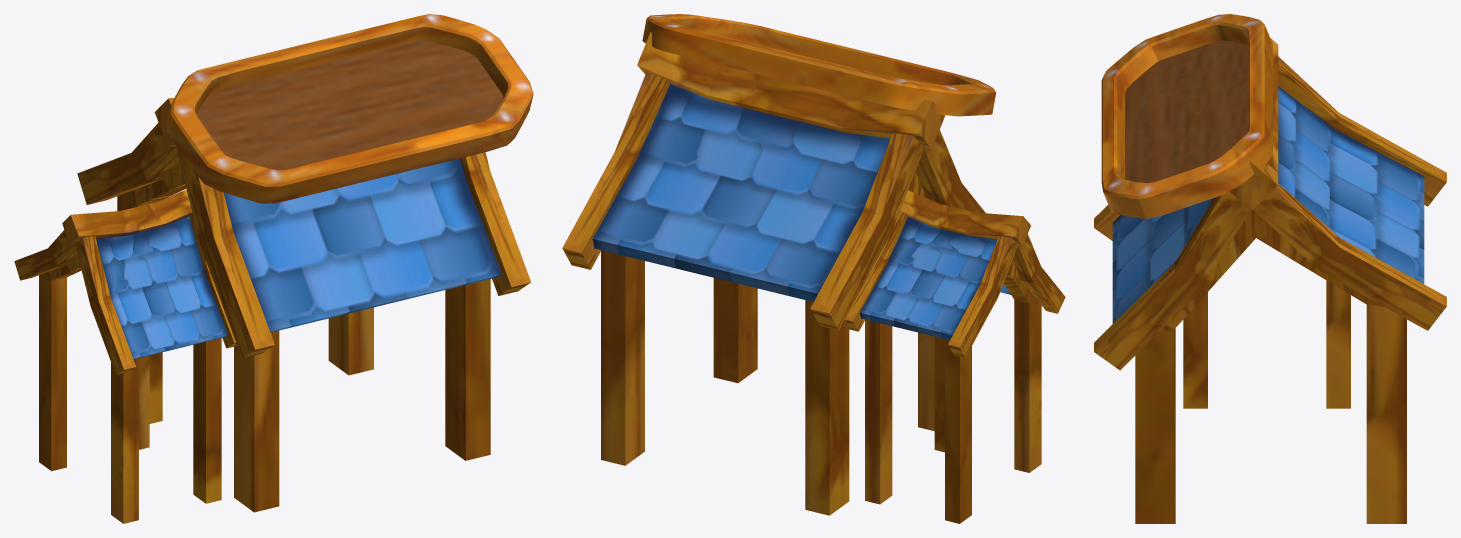
The model's file is moc_bang_chuyen.glb.
The picture shows the model from 3 angles, left to right: view 1: azimuth 30°, elevation 25°; view 2: azimuth 150°, elevation 25°; view 3: azimuth 270°, elevation 25°; orthographic projection. The views are drawn at different scales.
Visible parts, largest first — view 1: pasted__Curve.012; view 2: pasted__Curve.012; view 3: pasted__Curve.012.
Boxes of the visible parts, x1=… form: pasted__Curve.012: x1=14, y1=14, x2=533, y2=523; pasted__Curve.012: x1=562, y1=14, x2=1065, y2=523; pasted__Curve.012: x1=1094, y1=14, x2=1446, y2=523.
Size of the model in its own units: 3.71 by 3.45 by 2.79.
Materials: 2 (2 with a texture image).
